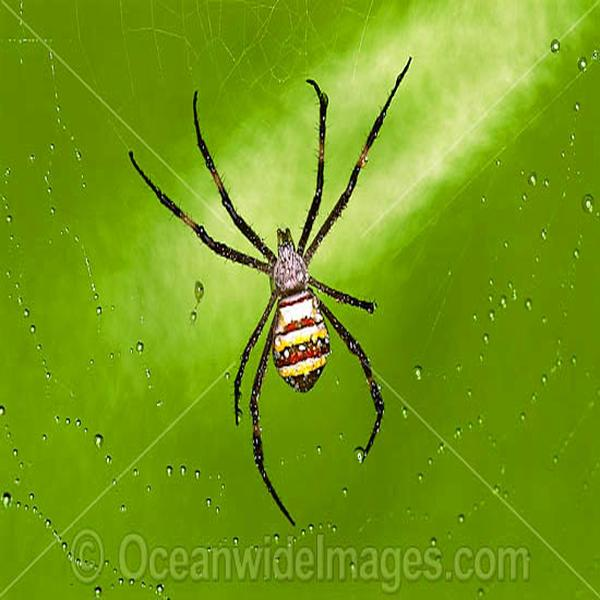St Andrew's Cross Spider: (134, 62, 399, 510)
